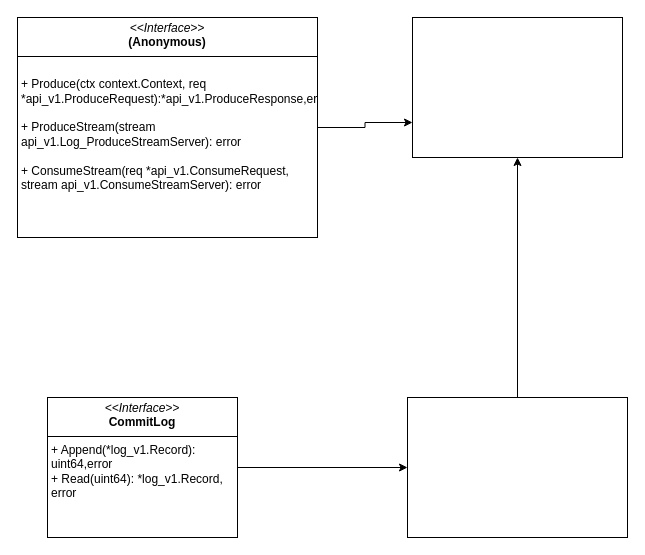
Some shapes in this 645 by 555 pixel diagram are drawn without their labels. Here are the shapes that lost their labels. From the top down, the centre of each, then its label:
At (517,87): "<<struct>> grpcServer + api_v1.UnimplementedLogServer + *Config".
At (517,467): "<<struct>> Config + CommitLog: CommitLog".
